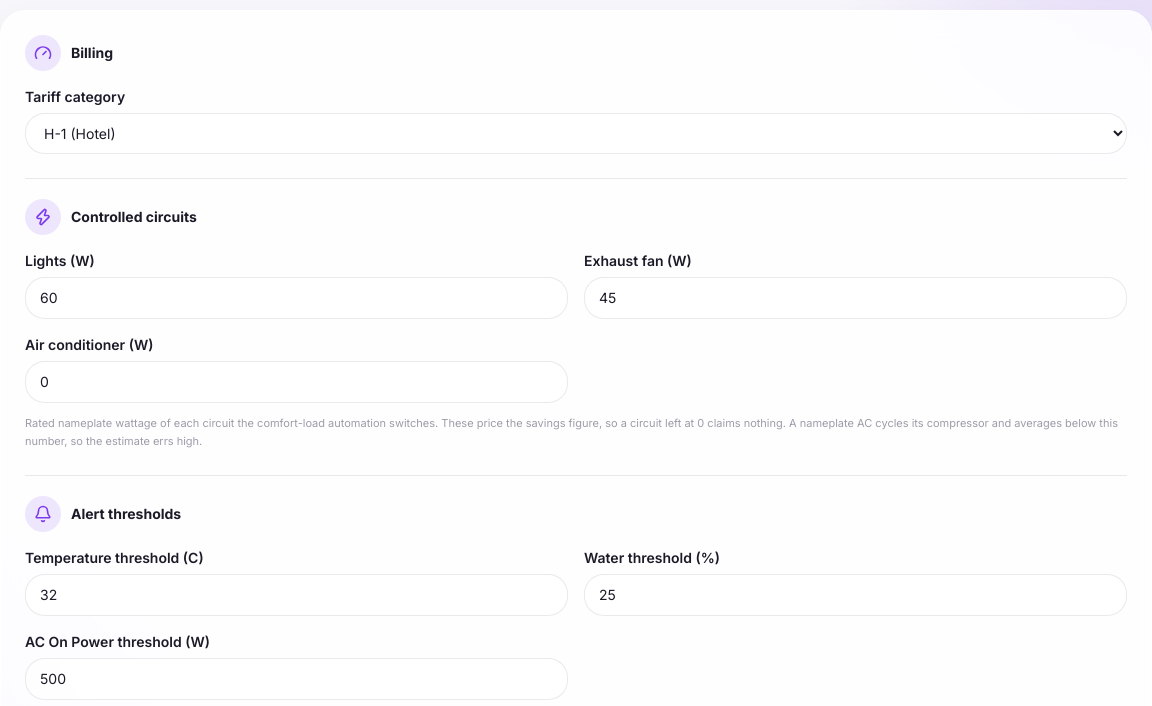
Scenario: AdminPropertySettings (route-scoped, v2 slice 07) › saves edited tariff, wattages, and thresholds through the same port paths
The width and height of the screenshot is (1152, 706).
Select "D-TOU (Domestic Time-of-Use)" in the dropdown labelled "Tariff category": (576, 134) [25,113,1127,154]
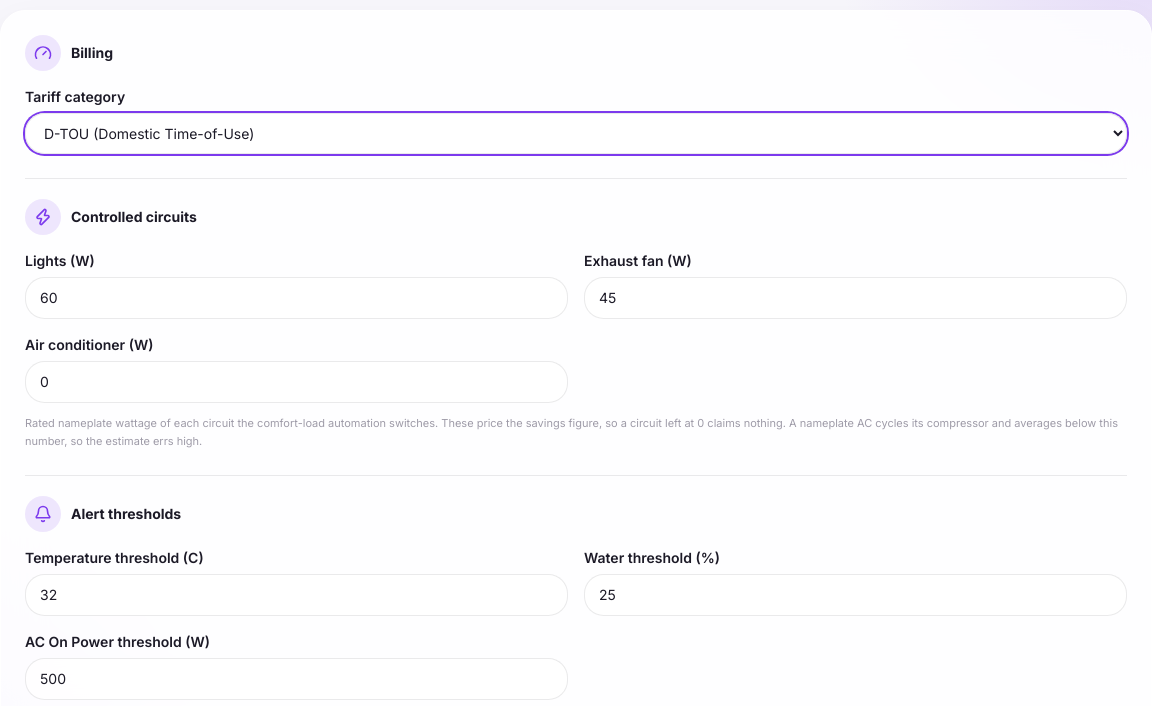
Replace the text in the number field labelled "Lights (W)" with "80": (296, 298) [25,277,568,319]
(page scrolled)
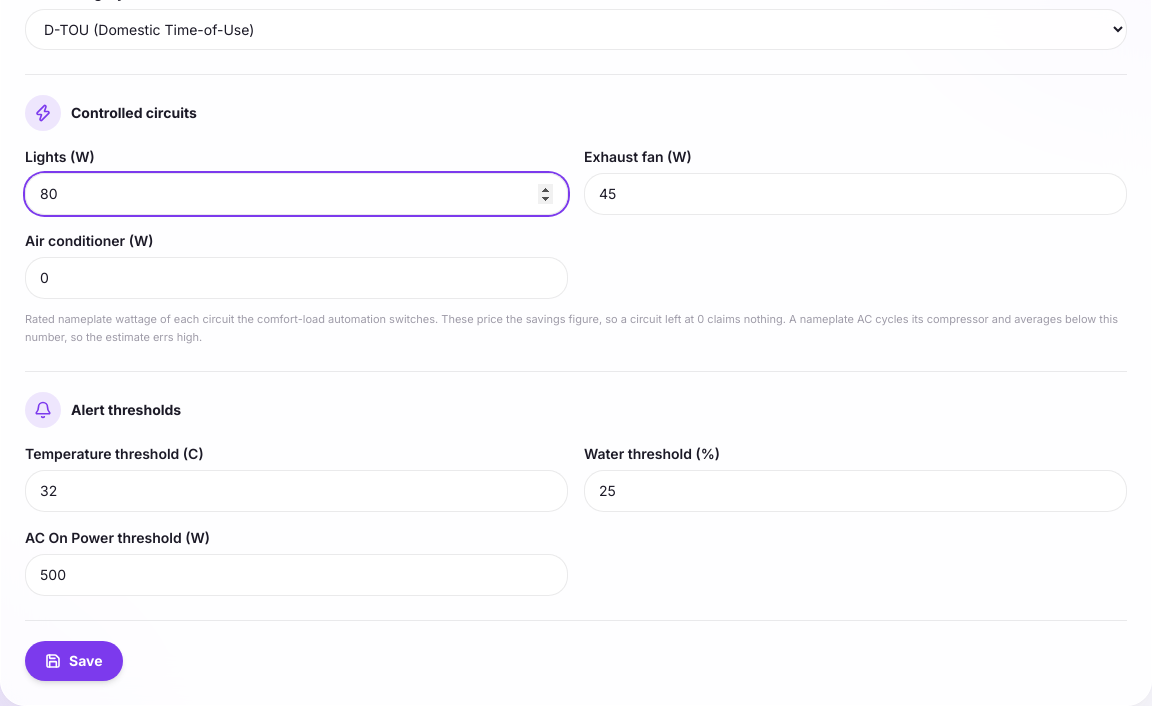
Click the button "Save": click(74, 661) [25,641,122,681]
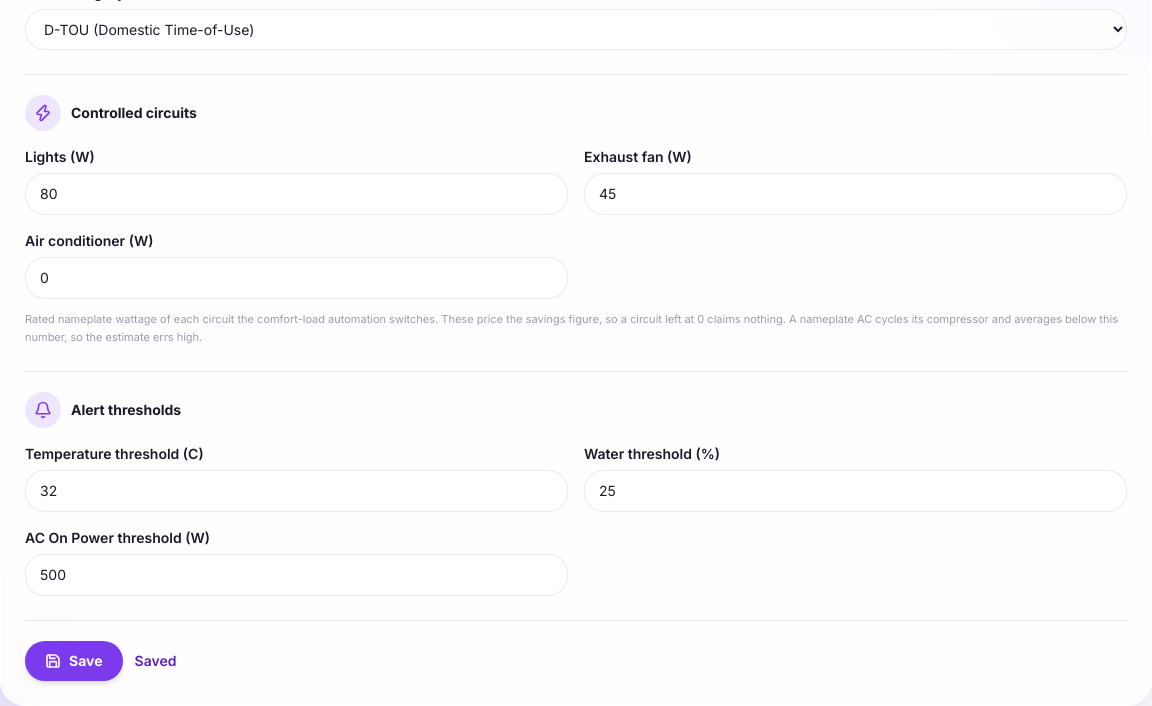
Now the text "Saved" is shown, box [134,651,176,671]
